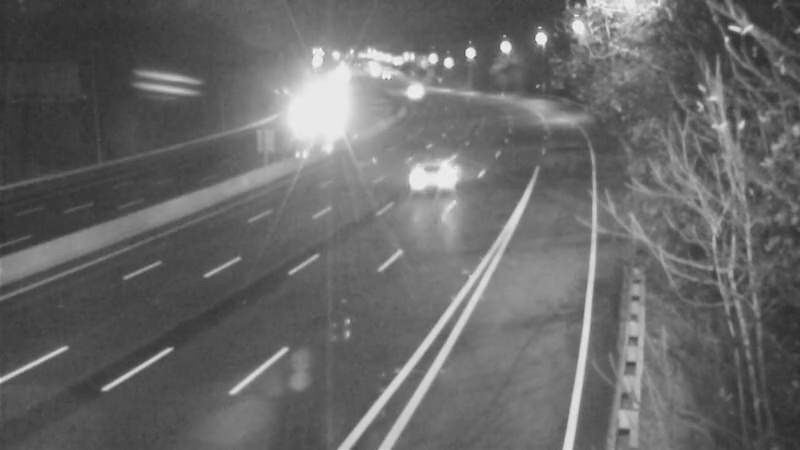vehicle: (392, 137, 472, 217), (393, 66, 443, 116)
